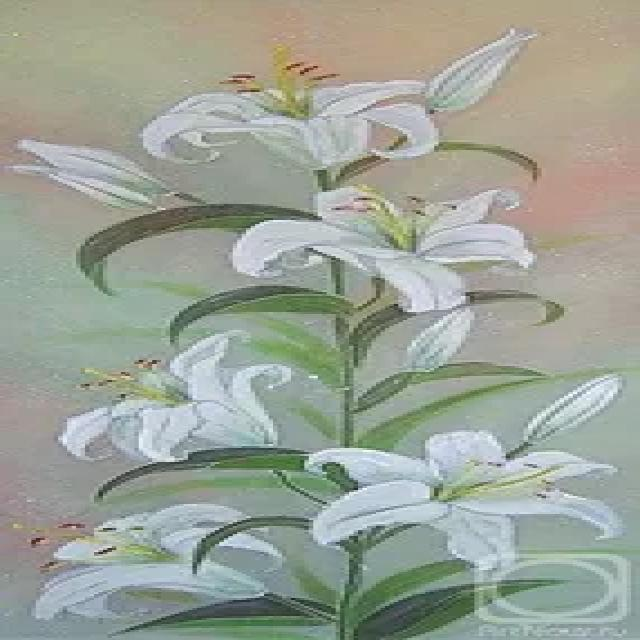lily: (130, 51, 477, 182), (20, 324, 310, 480)
